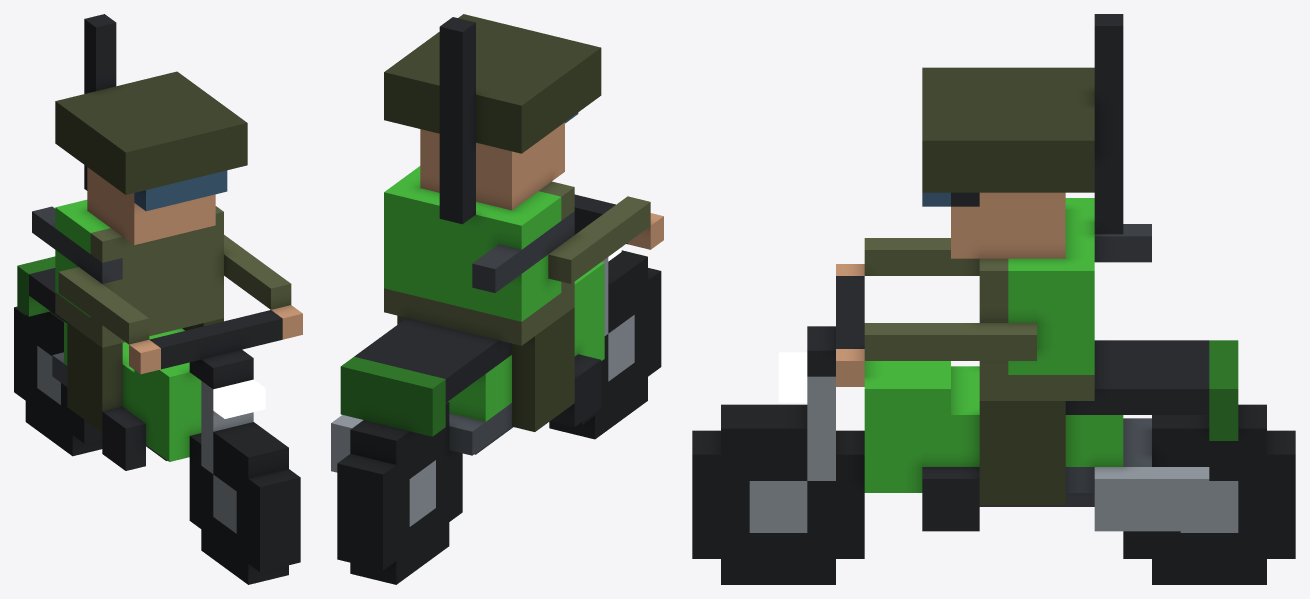
File: cm_scout_3.glb
The picture shows the model from 3 angles, left to right: view 1: azimuth 30°, elevation 25°; view 2: azimuth 150°, elevation 25°; view 3: azimuth 270°, elevation 25°; orthographic projection. The views are drawn at different scales.
Visible parts, largest first — view 1: cm_scout_3_body; view 2: cm_scout_3_body; view 3: cm_scout_3_body.
Part boxes in pixels (left/top/right/bottom): cm_scout_3_body: left=14, top=14, right=302, bottom=584; cm_scout_3_body: left=331, top=14, right=663, bottom=584; cm_scout_3_body: left=692, top=14, right=1295, bottom=584.
Bounding box in the file's own units: 0.5 × 1.31 × 1.31.
Materials: 1 (1 with a texture image).
